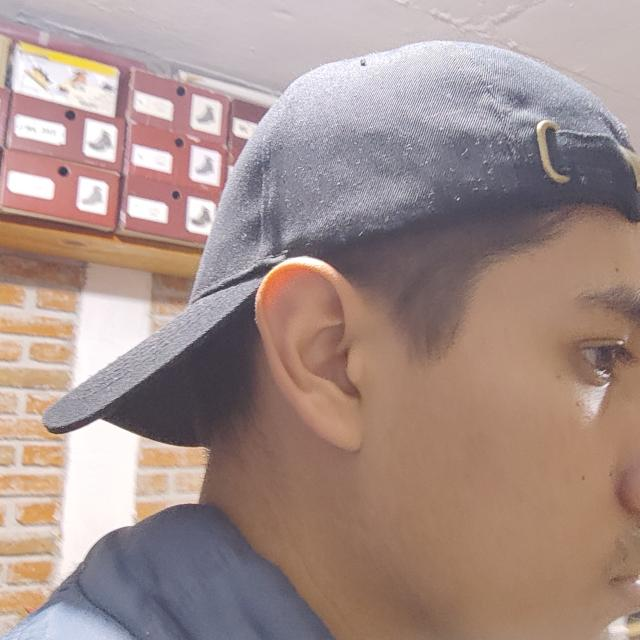ear: (255, 256, 378, 452)
